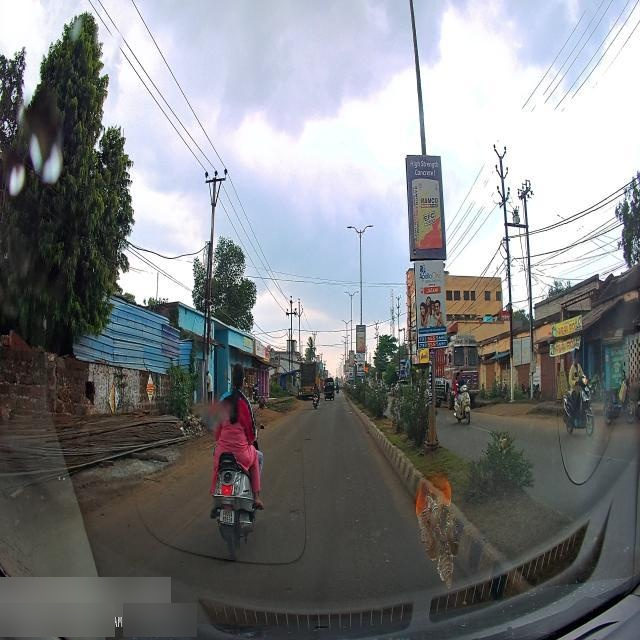pothole: (286, 502, 304, 526), (290, 444, 301, 455), (301, 432, 310, 438)
